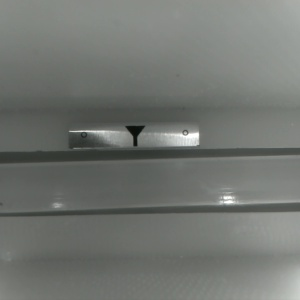finger: (124, 126, 144, 144)
